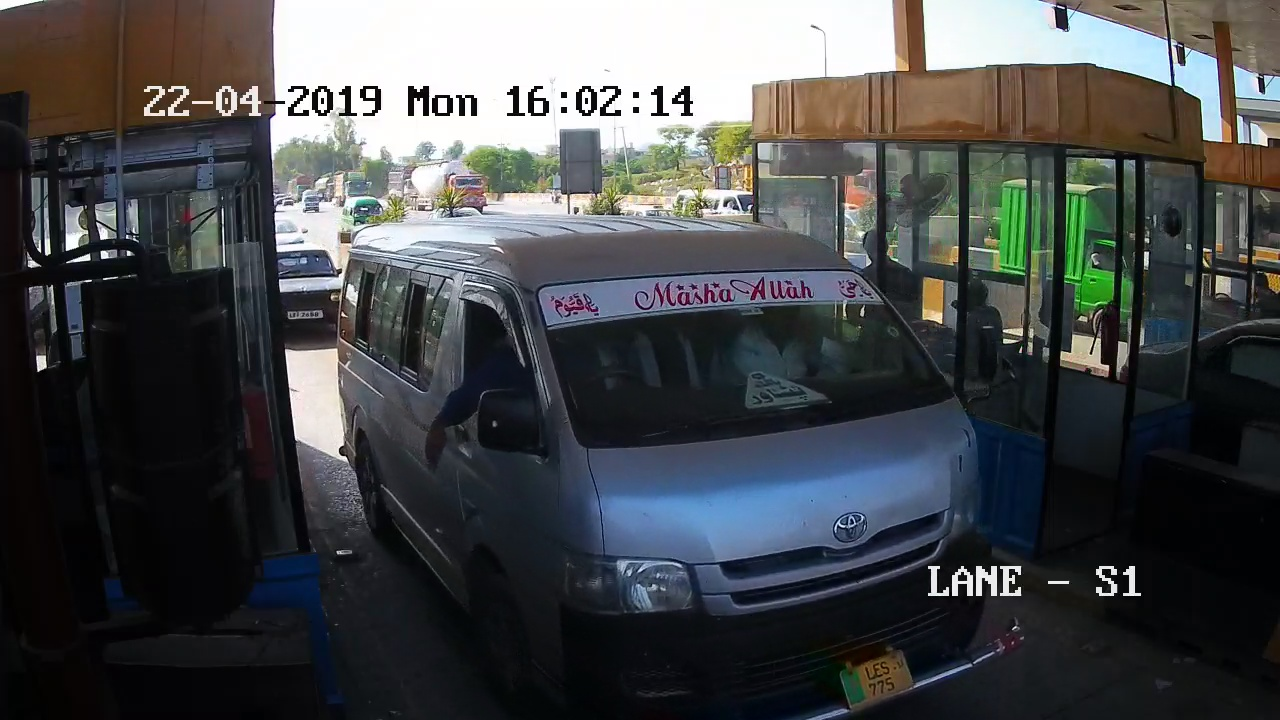car: (334, 222, 1017, 720)
